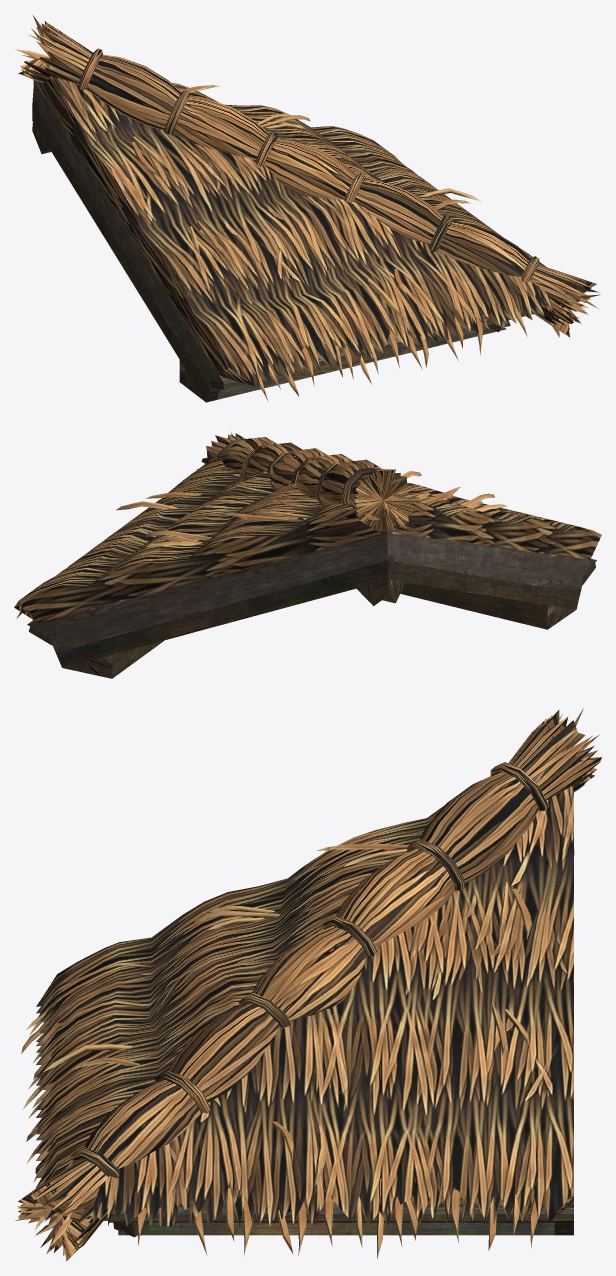
3 views of the same model, one above another, from view 1: azimuth 30°, elevation 25°; view 2: azimuth 150°, elevation 25°; view 3: azimuth 270°, elevation 25° (orthographic). The views are drawn at different scales.
Visible parts, largest first — view 1: SM_BB_T1_Extended_Roof_Large_Hip_Shallow_LOD0; view 2: SM_BB_T1_Extended_Roof_Large_Hip_Shallow_LOD0; view 3: SM_BB_T1_Extended_Roof_Large_Hip_Shallow_LOD0.
Boxes of the visible parts, x1,y1,x2,y2 form: SM_BB_T1_Extended_Roof_Large_Hip_Shallow_LOD0: (14, 15, 600, 402); SM_BB_T1_Extended_Roof_Large_Hip_Shallow_LOD0: (14, 431, 601, 678); SM_BB_T1_Extended_Roof_Large_Hip_Shallow_LOD0: (15, 708, 601, 1261).
Bounding box in the file's own units: 3.89 × 2.46 × 3.88.
3 materials, 3 textured.
